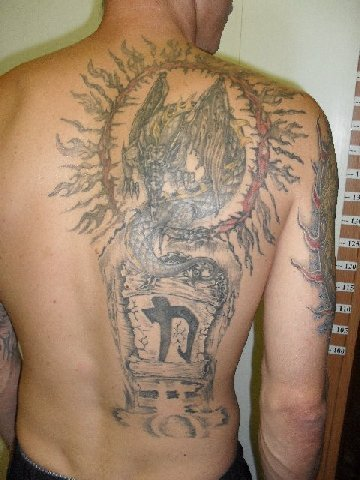tatu6_drakon: (30, 19, 343, 443)
